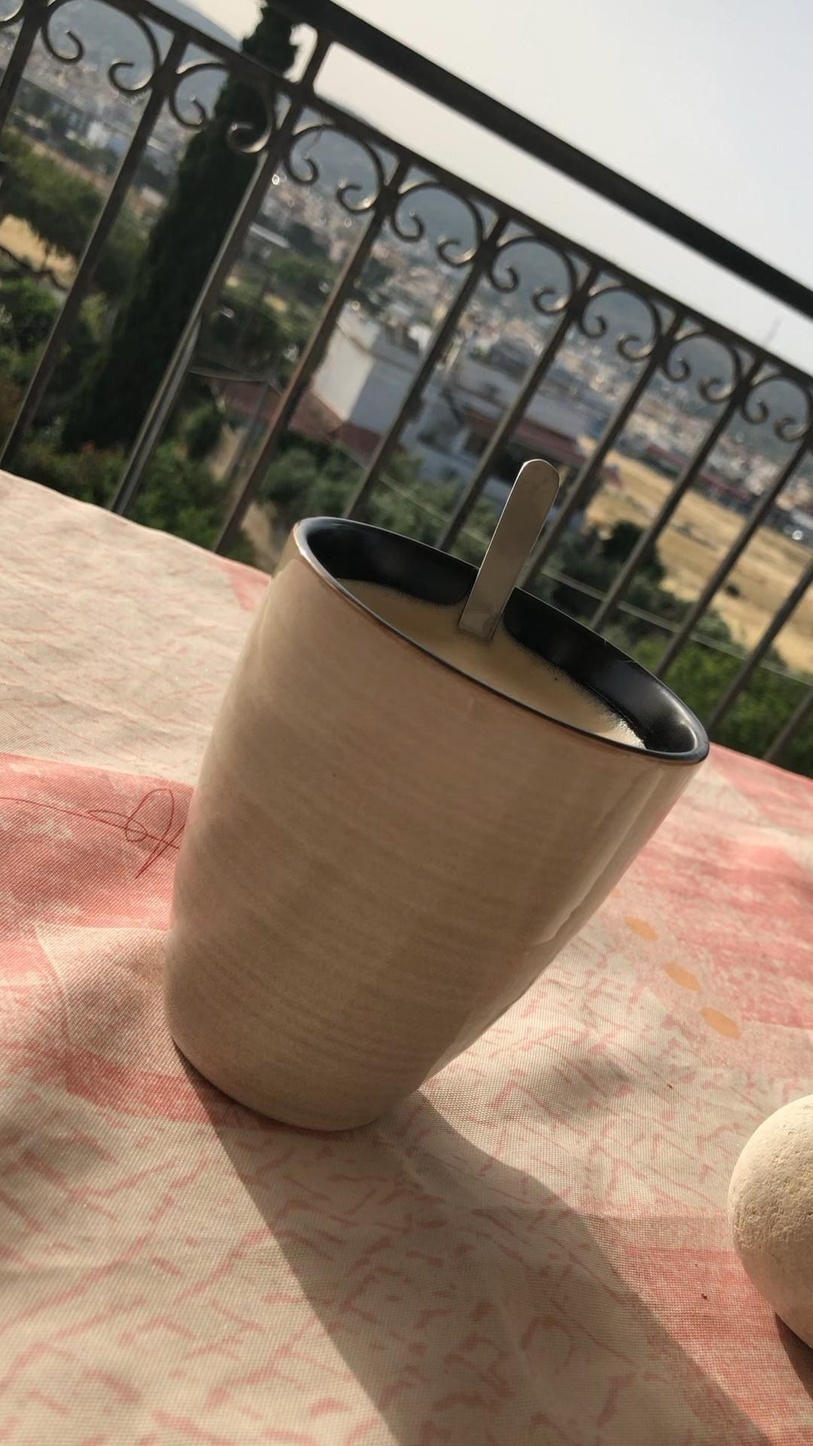cup-handle: (157, 514, 712, 1132)
